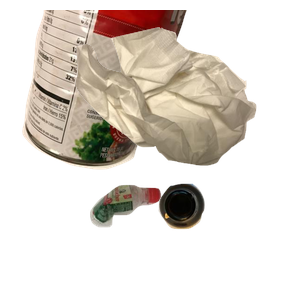glass: (156, 181, 300, 300)
metal: (20, 10, 199, 172)
plastic: (88, 182, 242, 300)
trash: (73, 25, 300, 183)
